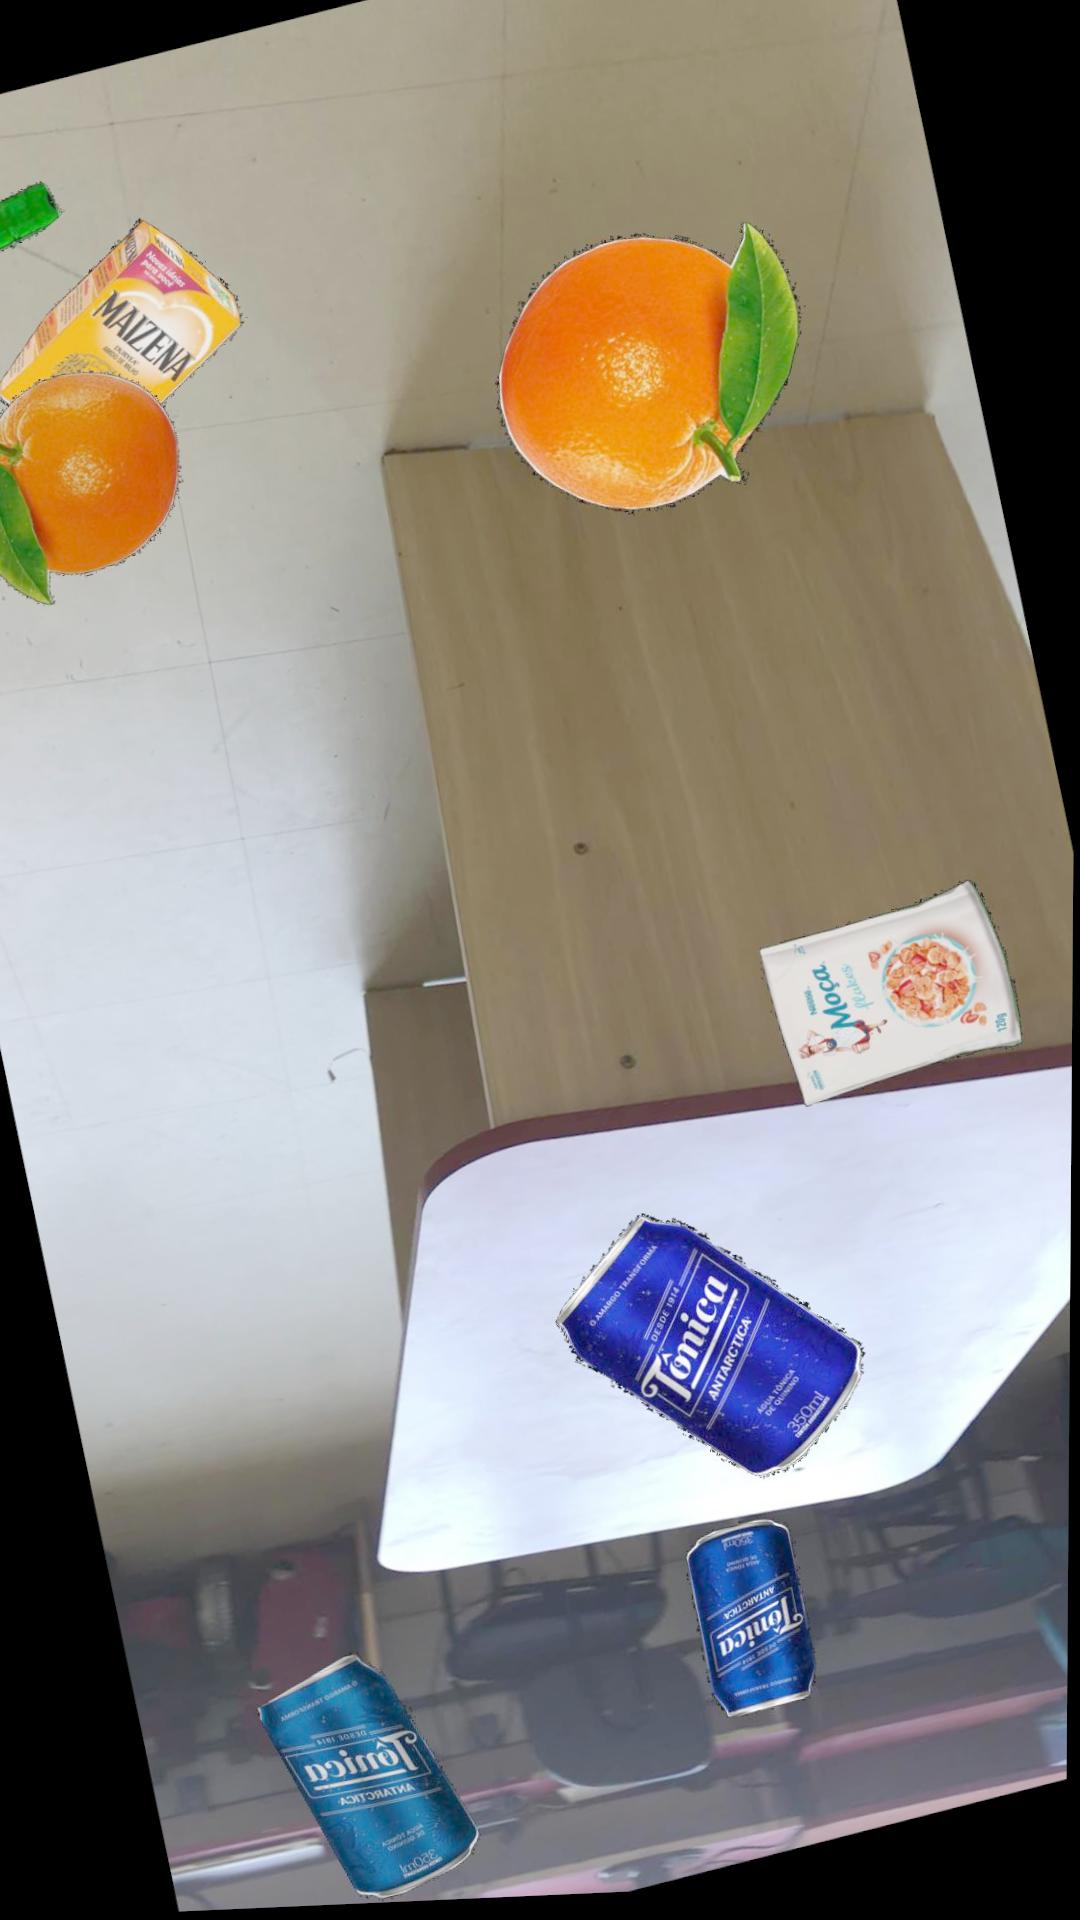cleaner: (0, 182, 58, 253)
corn flakes: (758, 890, 1022, 1116)
orange: (493, 229, 799, 522), (0, 373, 179, 607)
tonic: (555, 1220, 865, 1485), (257, 1659, 480, 1904), (686, 1527, 816, 1726)
